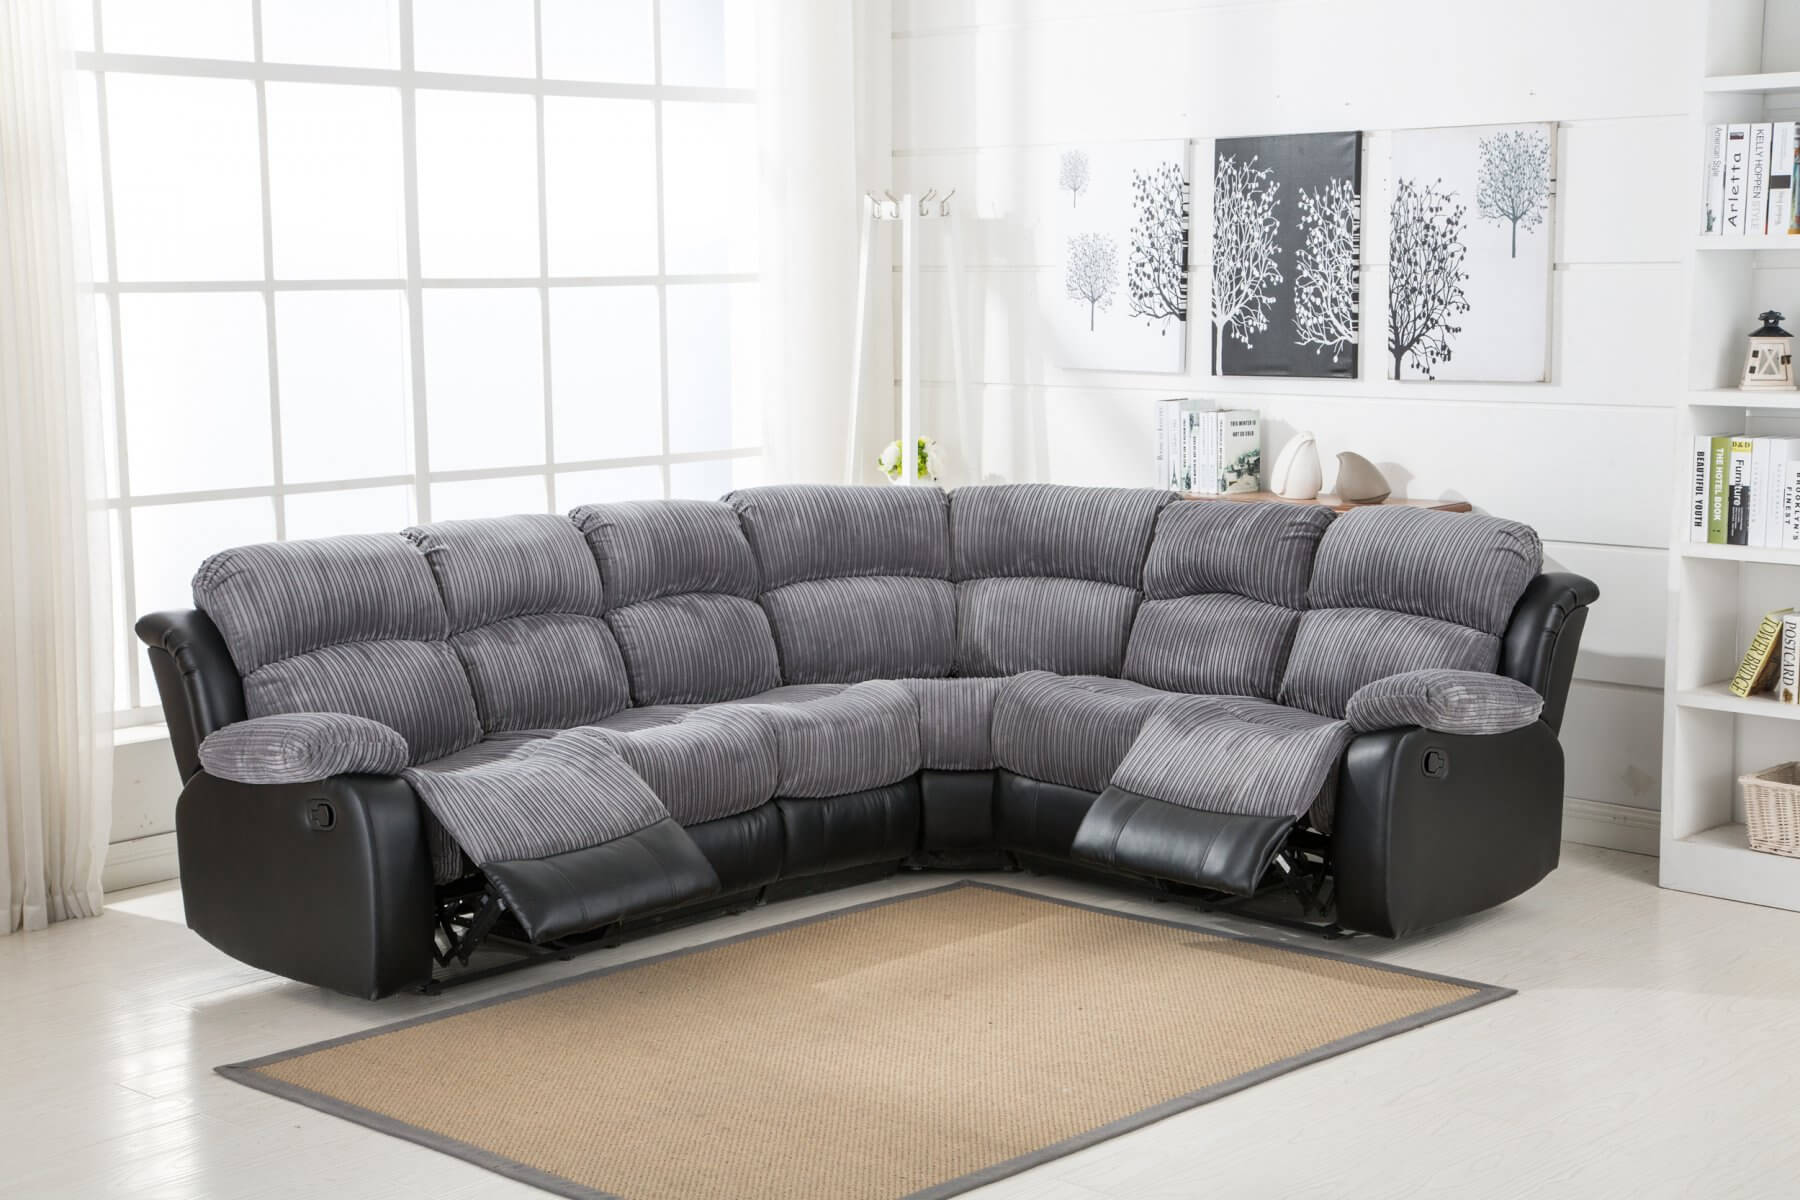chairs: (125, 455, 1604, 1000)
